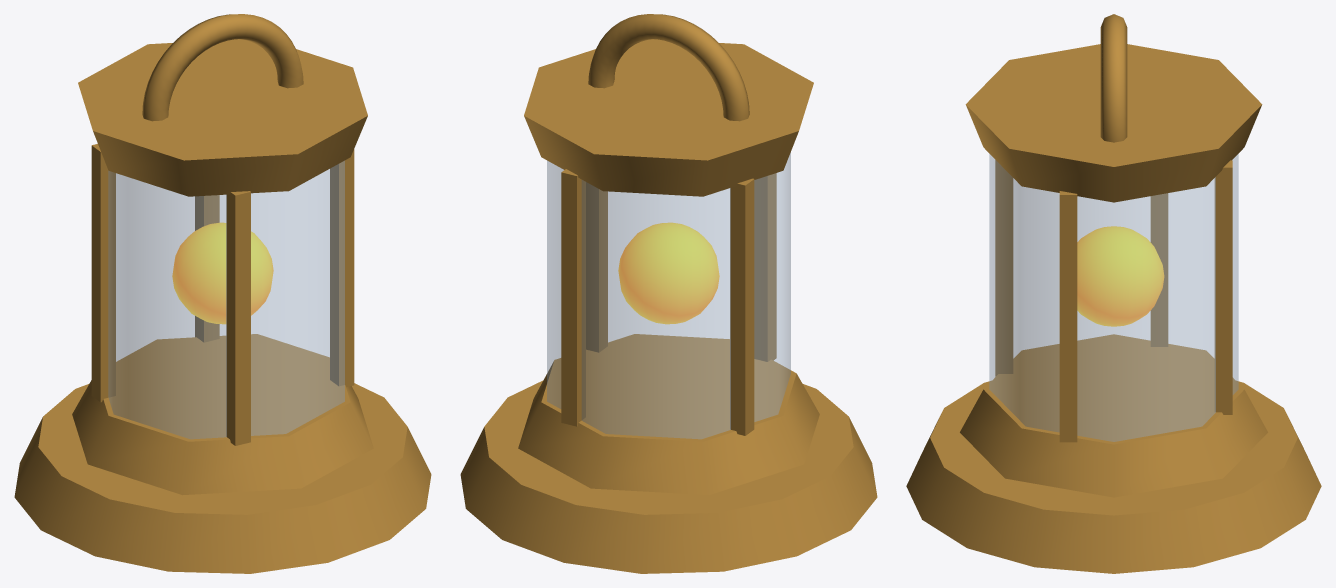
File: lantern.glb
The picture shows the model from 3 angles, left to right: view 1: azimuth 30°, elevation 25°; view 2: azimuth 150°, elevation 25°; view 3: azimuth 270°, elevation 25°; orthographic projection.
Parts seen in each view (by area): view 1: Body, Base, CapBottom, CapTop, Pillar1, Handle, Pillar2, Ember, Pillar0, Pillar3; view 2: Body, Base, CapBottom, CapTop, Ember, Pillar2, Pillar3, Handle, Pillar1, Pillar0; view 3: Body, Base, CapBottom, CapTop, Ember, Pillar0, Pillar3, Pillar1, Handle, Pillar2.
Boxes of the visible parts, <box> form: Body: <box>108,160,344,439</box>; Base: <box>14,383,431,573</box>; CapBottom: <box>72,334,373,495</box>; CapTop: <box>78,39,367,196</box>; Pillar1: <box>226,191,250,445</box>; Handle: <box>142,14,303,121</box>; Pillar2: <box>91,144,115,402</box>; Ember: <box>172,222,273,324</box>; Pillar0: <box>330,149,354,387</box>; Pillar3: <box>195,195,219,342</box>; Body: <box>547,152,790,439</box>; Base: <box>460,380,877,573</box>; CapBottom: <box>518,334,819,495</box>; CapTop: <box>524,39,813,196</box>; Ember: <box>618,222,719,324</box>; Pillar2: <box>730,178,754,435</box>; Pillar3: <box>561,169,585,426</box>; Handle: <box>588,14,749,121</box>; Pillar1: <box>754,173,776,361</box>; Pillar0: <box>586,182,607,352</box>; Body: <box>989,154,1238,441</box>; Base: <box>906,380,1321,573</box>; CapBottom: <box>960,334,1267,497</box>; CapTop: <box>965,44,1262,202</box>; Ember: <box>1077,226,1164,326</box>; Pillar0: <box>1059,191,1077,442</box>; Pillar3: <box>1214,160,1232,414</box>; Pillar1: <box>995,160,1013,376</box>; Handle: <box>1100,14,1127,142</box>; Pillar2: <box>1150,193,1168,346</box>.
Bounding box in the file's own units: 1.4 × 1.73 × 1.4.
